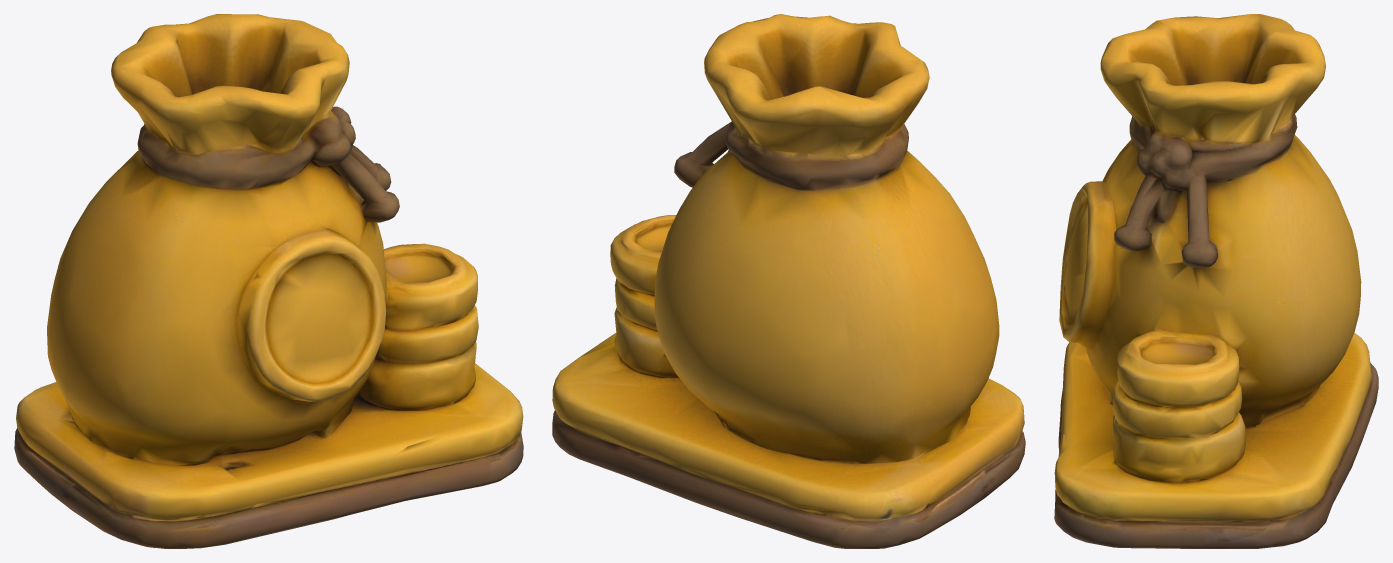
The model's file is icon-payday.glb.
The picture shows the model from 3 angles, left to right: view 1: azimuth 30°, elevation 25°; view 2: azimuth 150°, elevation 25°; view 3: azimuth 270°, elevation 25°; orthographic projection. The views are drawn at different scales.
Parts seen in each view (by area): view 1: Mesh_0; view 2: Mesh_0; view 3: Mesh_0.
Boxes of the visible parts, x1,y1,x2,y2 form: Mesh_0: (14,14,523,548); Mesh_0: (552,14,1025,548); Mesh_0: (1054,14,1378,548).
Size of the model in its own units: 2 by 1.96 by 1.45.
Materials: 1 (1 with a texture image).
